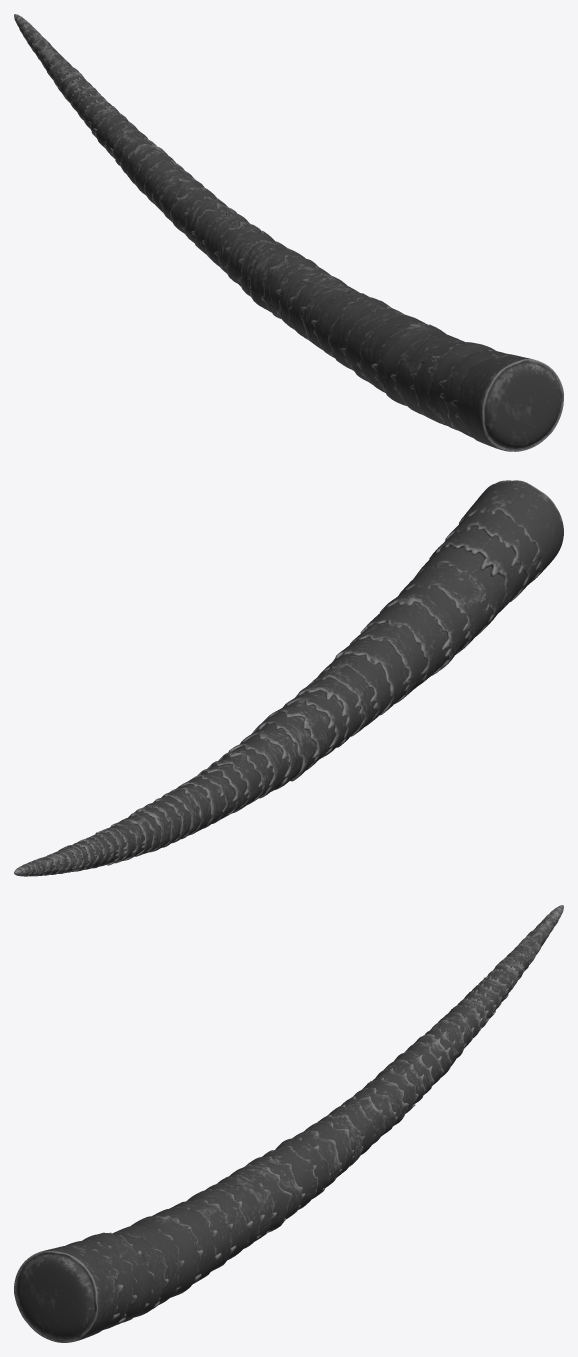
The model's file is Hair_model.fbx.
3 renders of one model, top to bottom at view 1: azimuth 30°, elevation 25°; view 2: azimuth 150°, elevation 25°; view 3: azimuth 330°, elevation 25°, orthographic.
Visible parts, largest first — view 1: Hair_model; view 2: Hair_model; view 3: Hair_model.
Part boxes in pixels (left/top/right/bottom): Hair_model: left=14, top=14, right=563, bottom=451; Hair_model: left=14, top=480, right=563, bottom=876; Hair_model: left=14, top=905, right=563, bottom=1342.
Bounding box in the file's own units: 3.36 × 4.69 × 35.14.
